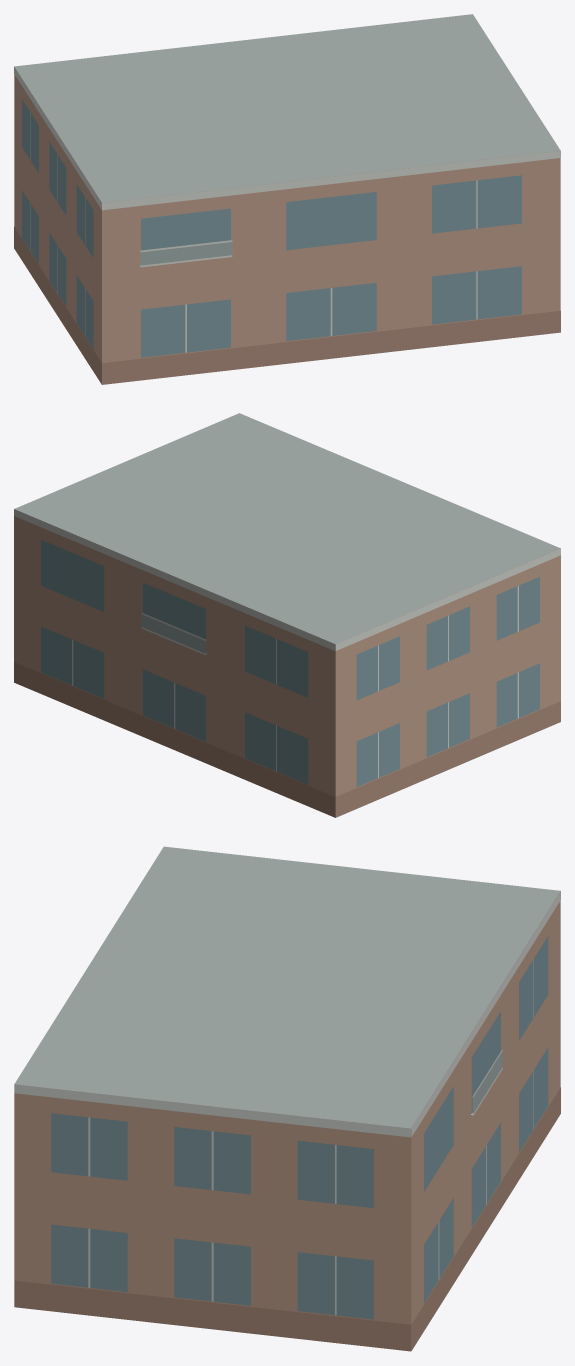
Rendered from survey-upis-33045862.glb.
3 views of the same model, one above another, from view 1: azimuth 30°, elevation 25°; view 2: azimuth 150°, elevation 25°; view 3: azimuth 270°, elevation 25° (orthographic). The views are drawn at different scales.
Visible parts, largest first — view 1: survey-upis-33045862.tmp; view 2: survey-upis-33045862.tmp; view 3: survey-upis-33045862.tmp.
Boxes of the visible parts, x1=… form: survey-upis-33045862.tmp: x1=14, y1=14, x2=560, y2=384; survey-upis-33045862.tmp: x1=14, y1=413, x2=560, y2=817; survey-upis-33045862.tmp: x1=14, y1=846, x2=560, y2=1351.
Size of the model in its own units: 16.58 by 6.1 by 13.57.
